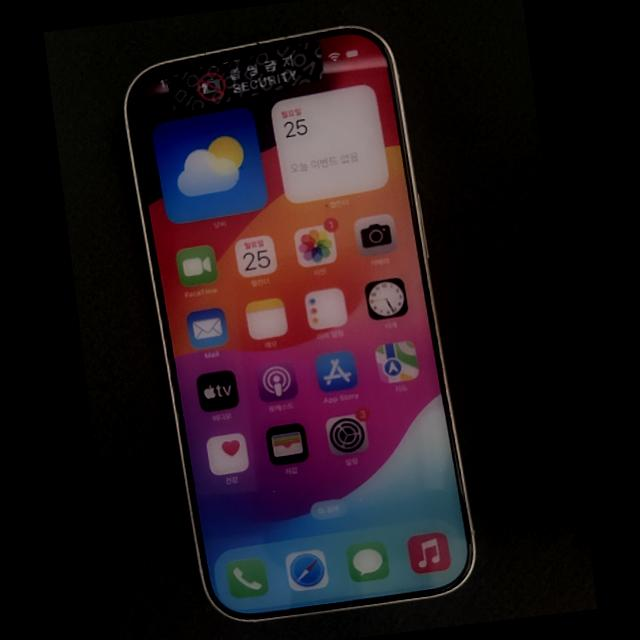phone: (126, 27, 474, 619)
sticker: (166, 40, 324, 113)
